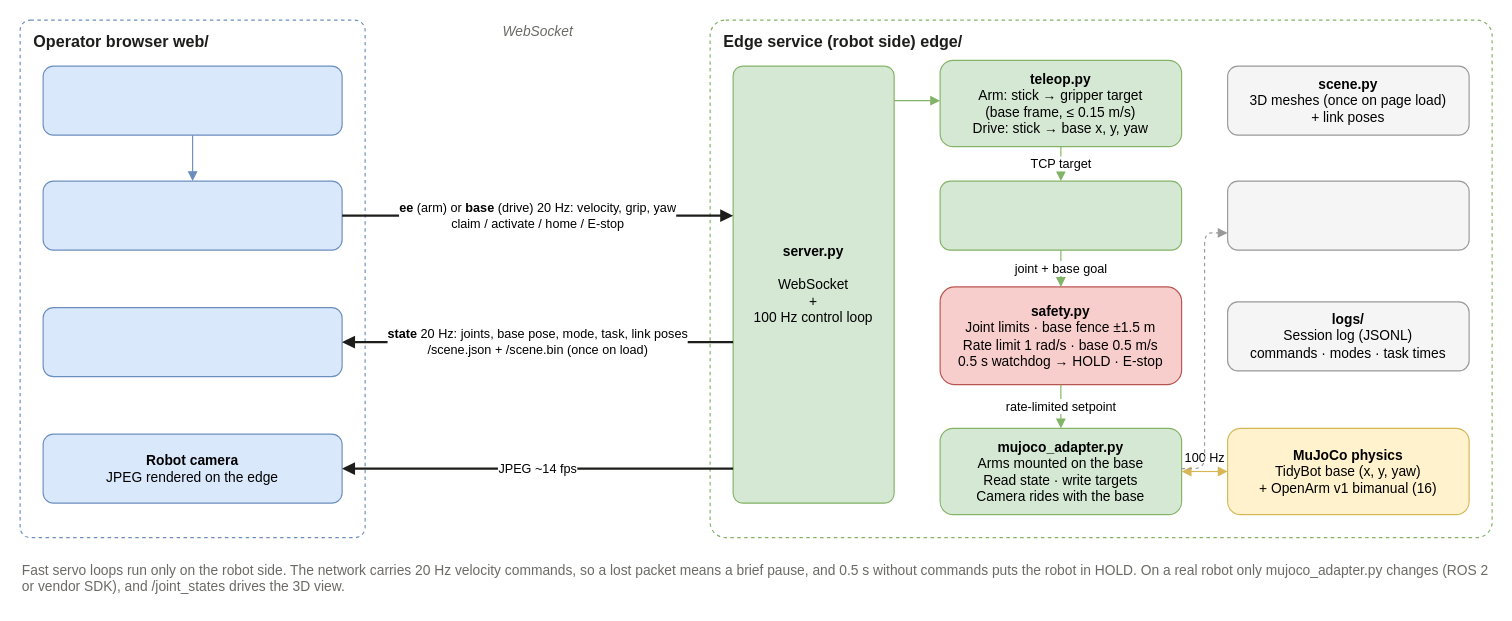
The diagram is 1512 pixels wide and 621 high, and some of its shapes have lost their labels. The shapes that lost their labels are listed below. From the top down, each one's centre as x and y in pixels, then its label:
At [192,100]: "Gamepad / keyboard Gamepad API · WASD · X / Tab = drive mode".
At [192,215]: "app.js Arm or drive mode sends ee or base every 50 ms".
At [1060,215]: "ik.py Position-only IK, arms only (base goals skip IK)".
At [1347,215]: "task.py Reads gripper positions · 10 targets hit = within 2 cm for 0.5 s".
At [192,341]: "3D view view3d.js three.js · orbit · stick follows the view".
